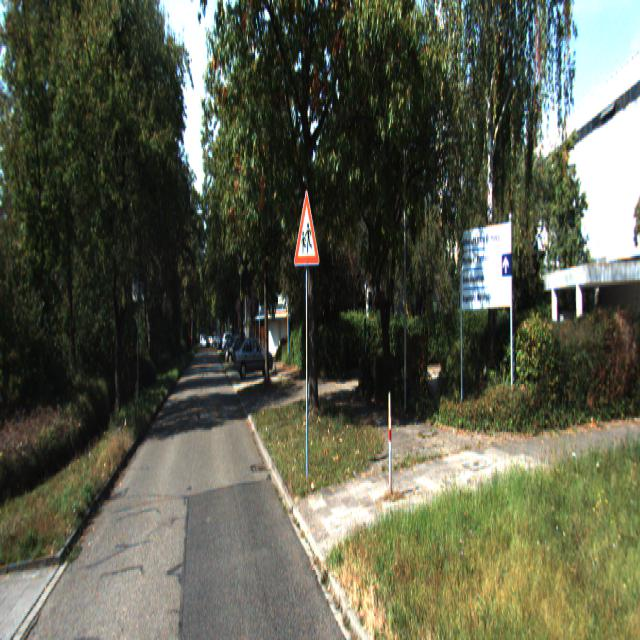Car: (232, 334, 272, 379)
